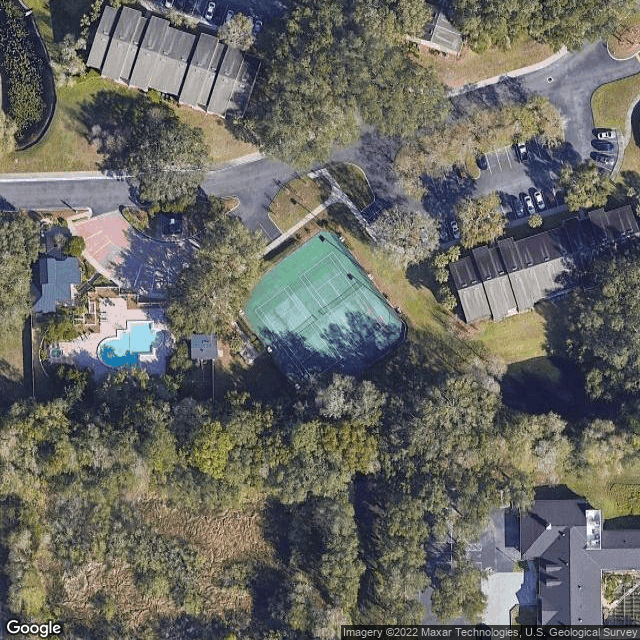Court: (252, 284, 345, 384), (297, 251, 389, 351)
